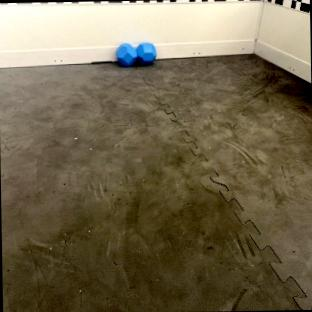V5_BLUE: (116, 42, 156, 65)
